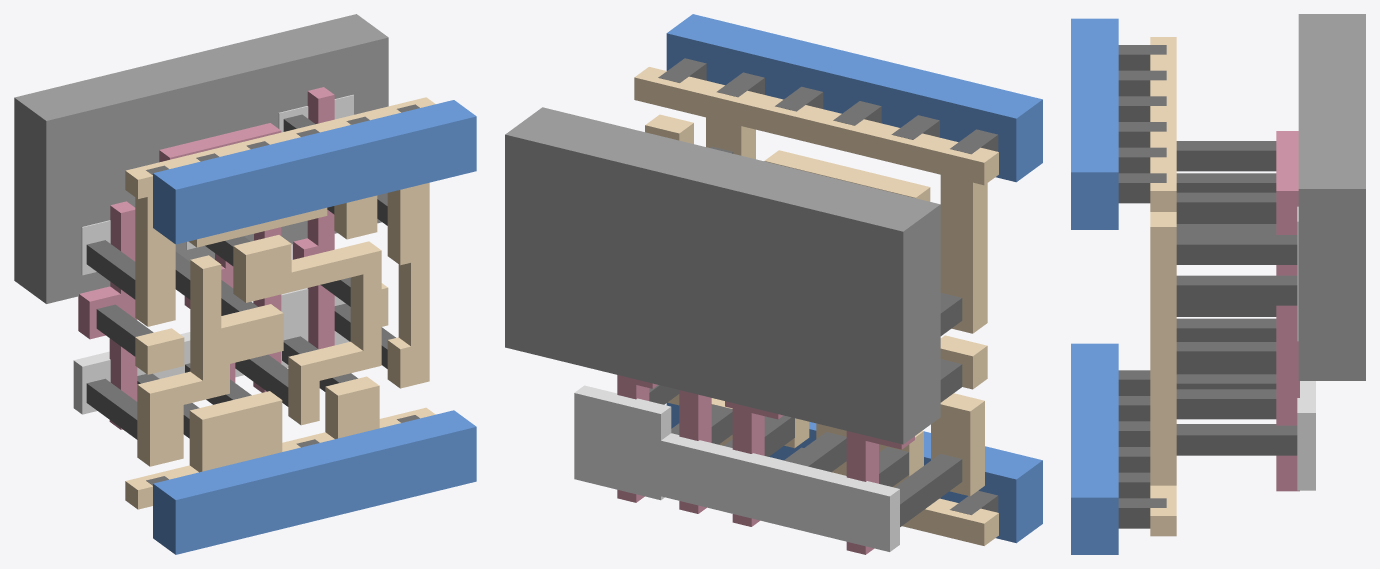
The model's file is sky130_fd_sc_hd__lpflow_inputiso1n_1.gds.gltf.
The picture shows the model from 3 angles, left to right: view 1: azimuth 30°, elevation 25°; view 2: azimuth 150°, elevation 25°; view 3: azimuth 270°, elevation 25°; orthographic projection. The views are drawn at different scales.
Parts seen in each view (by area): view 1: sky130_fd_sc_hd__lpflow_inputiso1n_1_li1, sky130_fd_sc_hd__lpflow_inputiso1n_1_met1, sky130_fd_sc_hd__lpflow_inputiso1n_1_nwell, sky130_fd_sc_hd__lpflow_inputiso1n_1_licon, sky130_fd_sc_hd__lpflow_inputiso1n_1_poly, sky130_fd_sc_hd__lpflow_inputiso1n_1_diff, sky130_fd_sc_hd__lpflow_inputiso1n_1_mcon; view 2: sky130_fd_sc_hd__lpflow_inputiso1n_1_nwell, sky130_fd_sc_hd__lpflow_inputiso1n_1_li1, sky130_fd_sc_hd__lpflow_inputiso1n_1_met1, sky130_fd_sc_hd__lpflow_inputiso1n_1_diff, sky130_fd_sc_hd__lpflow_inputiso1n_1_licon, sky130_fd_sc_hd__lpflow_inputiso1n_1_poly, sky130_fd_sc_hd__lpflow_inputiso1n_1_mcon; view 3: sky130_fd_sc_hd__lpflow_inputiso1n_1_licon, sky130_fd_sc_hd__lpflow_inputiso1n_1_nwell, sky130_fd_sc_hd__lpflow_inputiso1n_1_met1, sky130_fd_sc_hd__lpflow_inputiso1n_1_li1, sky130_fd_sc_hd__lpflow_inputiso1n_1_mcon, sky130_fd_sc_hd__lpflow_inputiso1n_1_poly, sky130_fd_sc_hd__lpflow_inputiso1n_1_diff.
Part boxes in pixels (left/top/right/bottom): sky130_fd_sc_hd__lpflow_inputiso1n_1_li1: left=125, top=97, right=435, bottom=509; sky130_fd_sc_hd__lpflow_inputiso1n_1_met1: left=153, top=100, right=476, bottom=554; sky130_fd_sc_hd__lpflow_inputiso1n_1_nwell: left=14, top=14, right=388, bottom=303; sky130_fd_sc_hd__lpflow_inputiso1n_1_licon: left=86, top=114, right=395, bottom=439; sky130_fd_sc_hd__lpflow_inputiso1n_1_poly: left=78, top=87, right=334, bottom=429; sky130_fd_sc_hd__lpflow_inputiso1n_1_diff: left=73, top=94, right=353, bottom=414; sky130_fd_sc_hd__lpflow_inputiso1n_1_mcon: left=146, top=104, right=419, bottom=485; sky130_fd_sc_hd__lpflow_inputiso1n_1_nwell: left=505, top=107, right=940, bottom=444; sky130_fd_sc_hd__lpflow_inputiso1n_1_li1: left=634, top=67, right=998, bottom=545; sky130_fd_sc_hd__lpflow_inputiso1n_1_met1: left=666, top=14, right=1042, bottom=543; sky130_fd_sc_hd__lpflow_inputiso1n_1_diff: left=574, top=385, right=899, bottom=551; sky130_fd_sc_hd__lpflow_inputiso1n_1_licon: left=649, top=146, right=962, bottom=526; sky130_fd_sc_hd__lpflow_inputiso1n_1_poly: left=617, top=375, right=914, bottom=554; sky130_fd_sc_hd__lpflow_inputiso1n_1_mcon: left=658, top=58, right=998, bottom=514; sky130_fd_sc_hd__lpflow_inputiso1n_1_licon: left=1176, top=141, right=1297, bottom=455; sky130_fd_sc_hd__lpflow_inputiso1n_1_nwell: left=1298, top=14, right=1365, bottom=380; sky130_fd_sc_hd__lpflow_inputiso1n_1_met1: left=1071, top=18, right=1118, bottom=554; sky130_fd_sc_hd__lpflow_inputiso1n_1_li1: left=1150, top=37, right=1176, bottom=536; sky130_fd_sc_hd__lpflow_inputiso1n_1_mcon: left=1118, top=45, right=1166, bottom=528; sky130_fd_sc_hd__lpflow_inputiso1n_1_poly: left=1276, top=131, right=1299, bottom=491; sky130_fd_sc_hd__lpflow_inputiso1n_1_diff: left=1297, top=206, right=1315, bottom=490.
Bounding box in the file's own units: 3.14 × 3.2 × 2.24.
